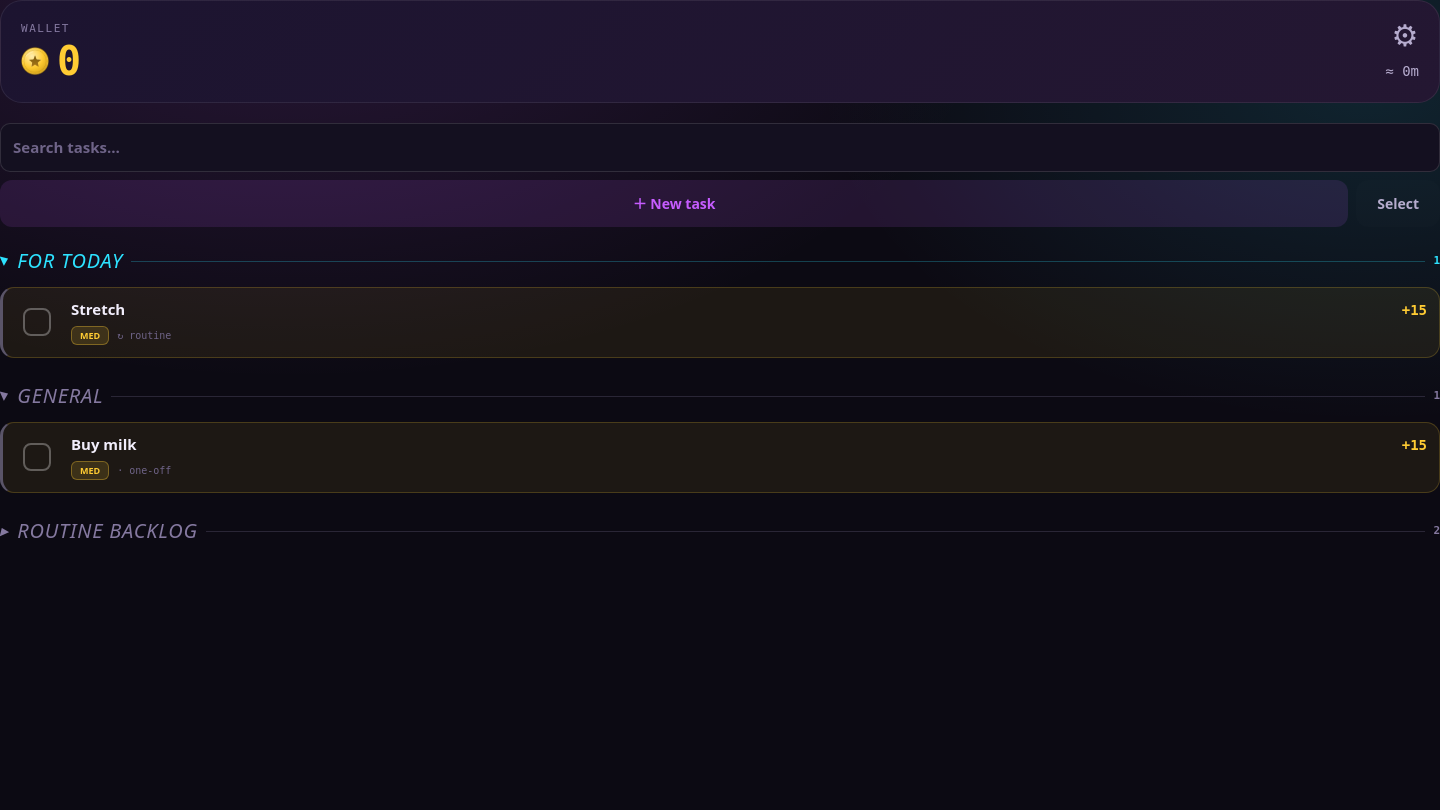
Test: tapping a task › closes the task from the view
Click the button "Buy milk": point(104, 444) left=71, top=435, right=1390, bottom=453
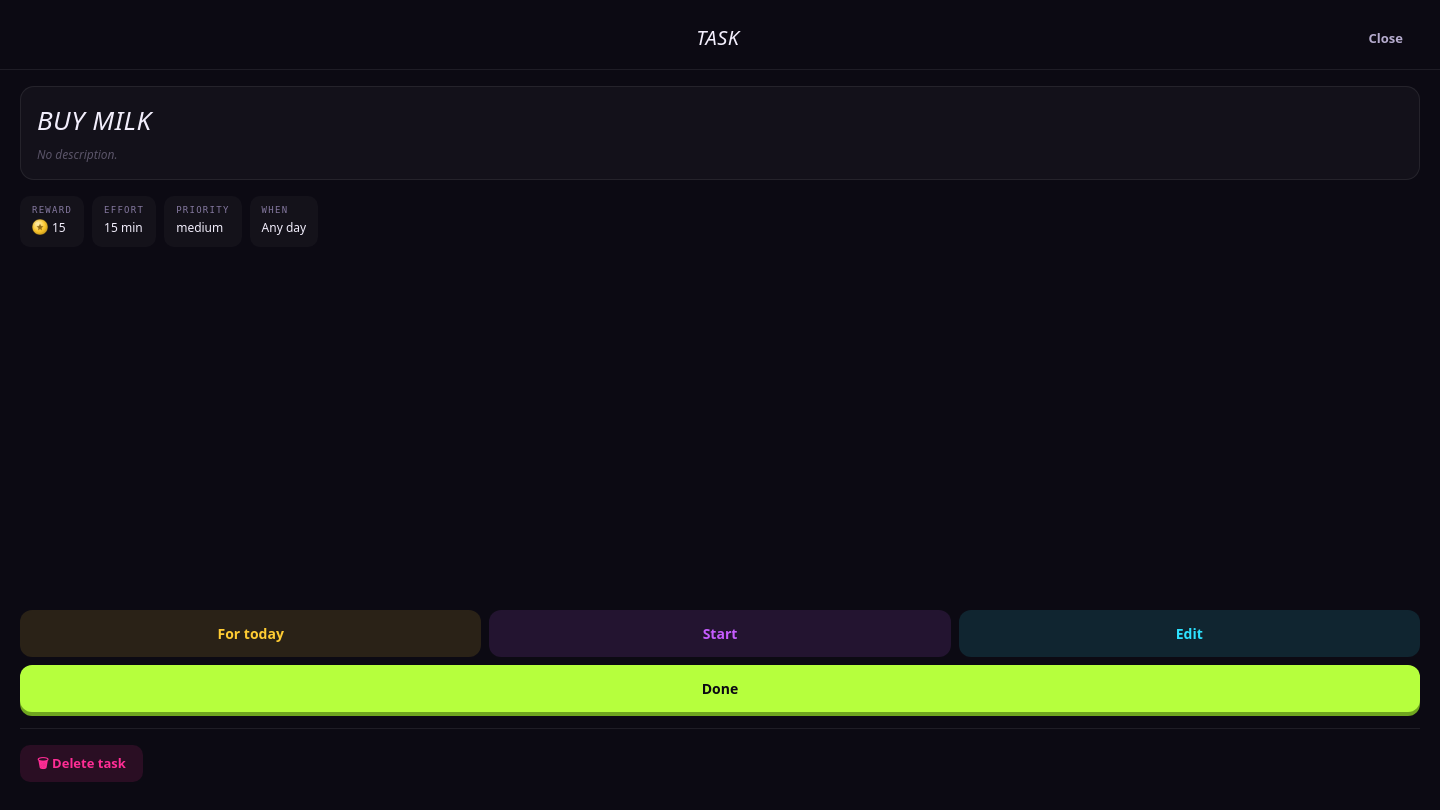
Click the button "Done": point(720, 689) left=20, top=665, right=1420, bottom=712
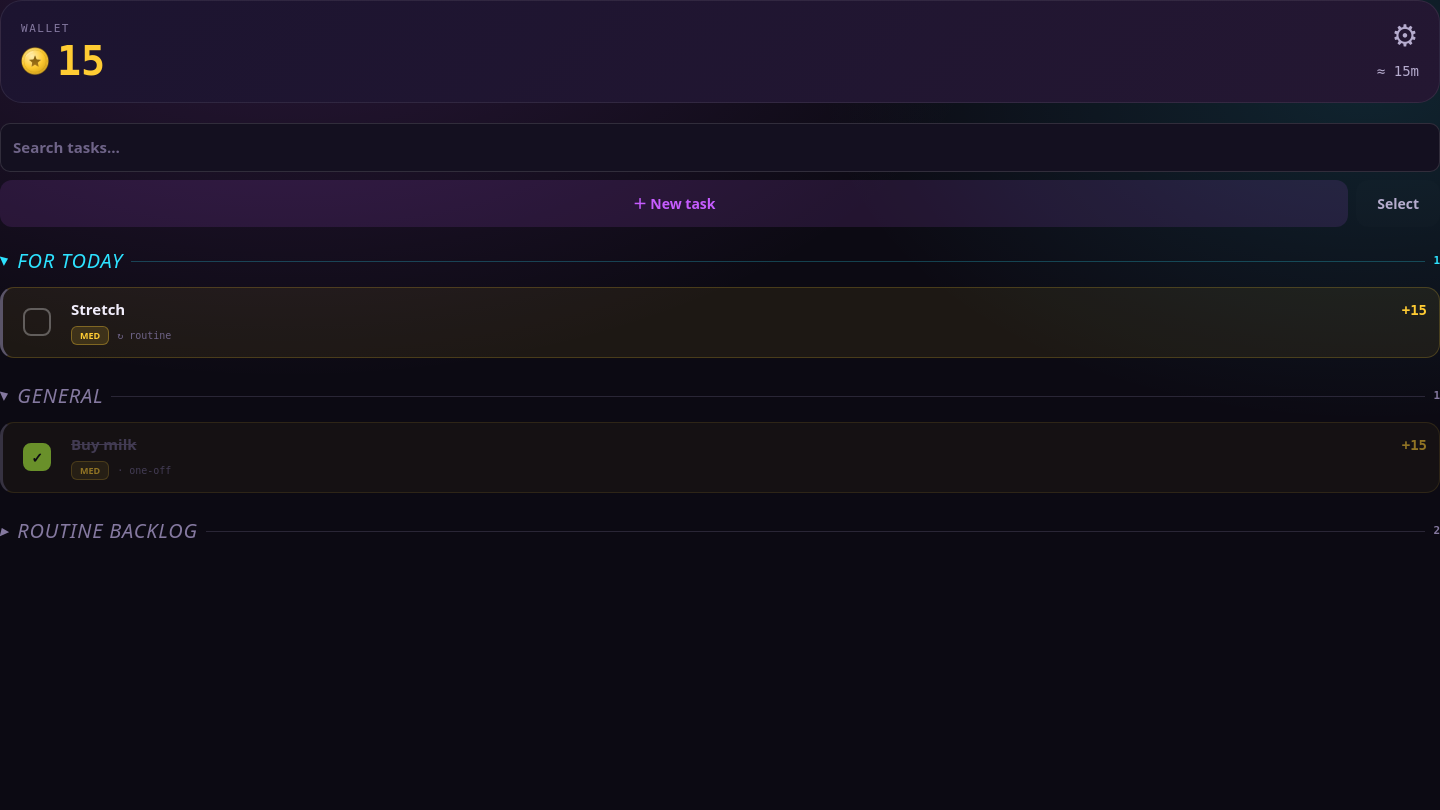
Check: the checkbox named "buy milk" is checked, box left=23, top=443, right=51, bottom=471
